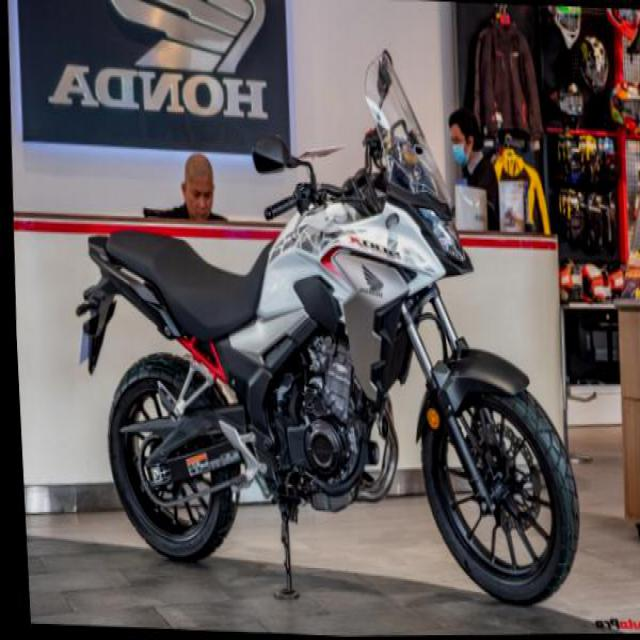CB500X: (79, 37, 588, 618)
